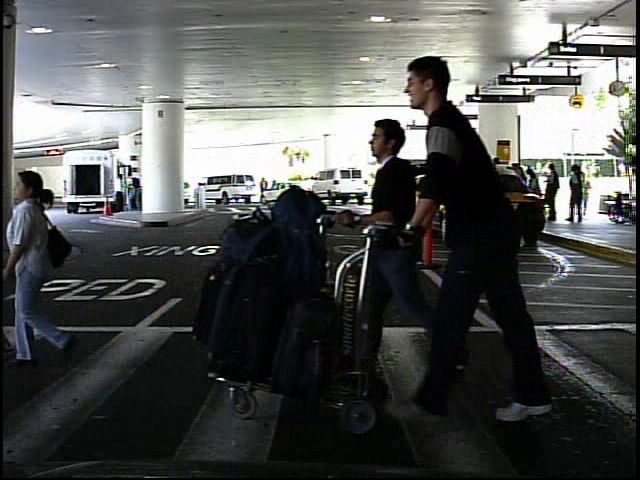person: (411, 47, 552, 424), (344, 116, 443, 391), (13, 157, 106, 382), (580, 171, 600, 219), (114, 173, 126, 212)
